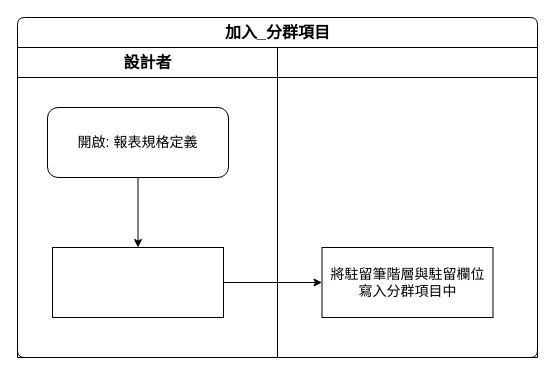
This 555x375 diagram has some shape labels left out. Each missing label, with the box of its shape:
IDE介面-報表規格定義: (276, 46, 538, 358)
執行按鈕: 加入_分群項目: (52, 246, 224, 318)
